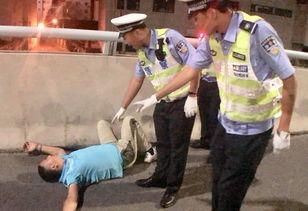bending: (179, 1, 298, 211), (120, 12, 200, 211)
down: (19, 115, 157, 211)
